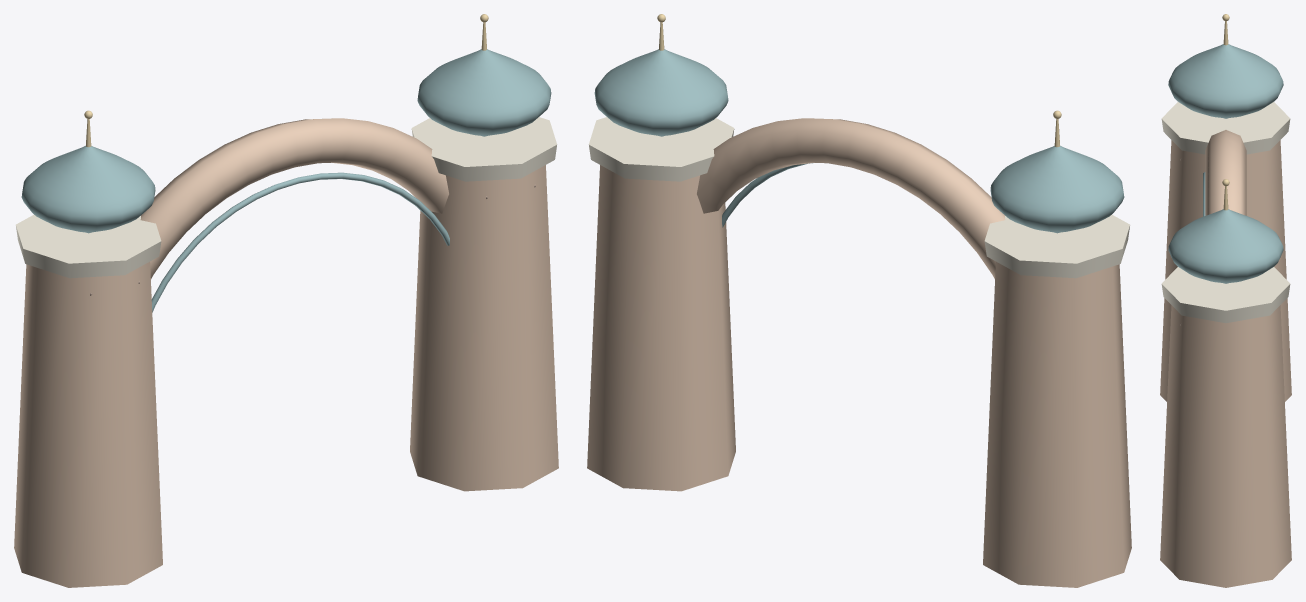
The model's file is prop-gate.glb.
3 views of the same model, side by side, from view 1: azimuth 30°, elevation 25°; view 2: azimuth 150°, elevation 25°; view 3: azimuth 270°, elevation 25° (orthographic). The views are drawn at different scales.
Visible parts, largest first — view 1: gate, Group_21, Group_5; view 2: gate, Group_21, Group_5; view 3: gate, Group_21, Group_5.
Boxes of the visible parts, left/top/right/bottom form: gate: left=14, top=117, right=558, bottom=587; Group_21: left=417, top=14, right=551, bottom=136; Group_5: left=21, top=110, right=155, bottom=233; gate: left=587, top=117, right=1131, bottom=587; Group_21: left=594, top=14, right=728, bottom=136; Group_5: left=990, top=110, right=1124, bottom=233; gate: left=1160, top=102, right=1291, bottom=587; Group_21: left=1168, top=179, right=1283, bottom=283; Group_5: left=1168, top=14, right=1283, bottom=118.
Bounding box in the file's own units: 10.7 × 8.6 × 2.7.
